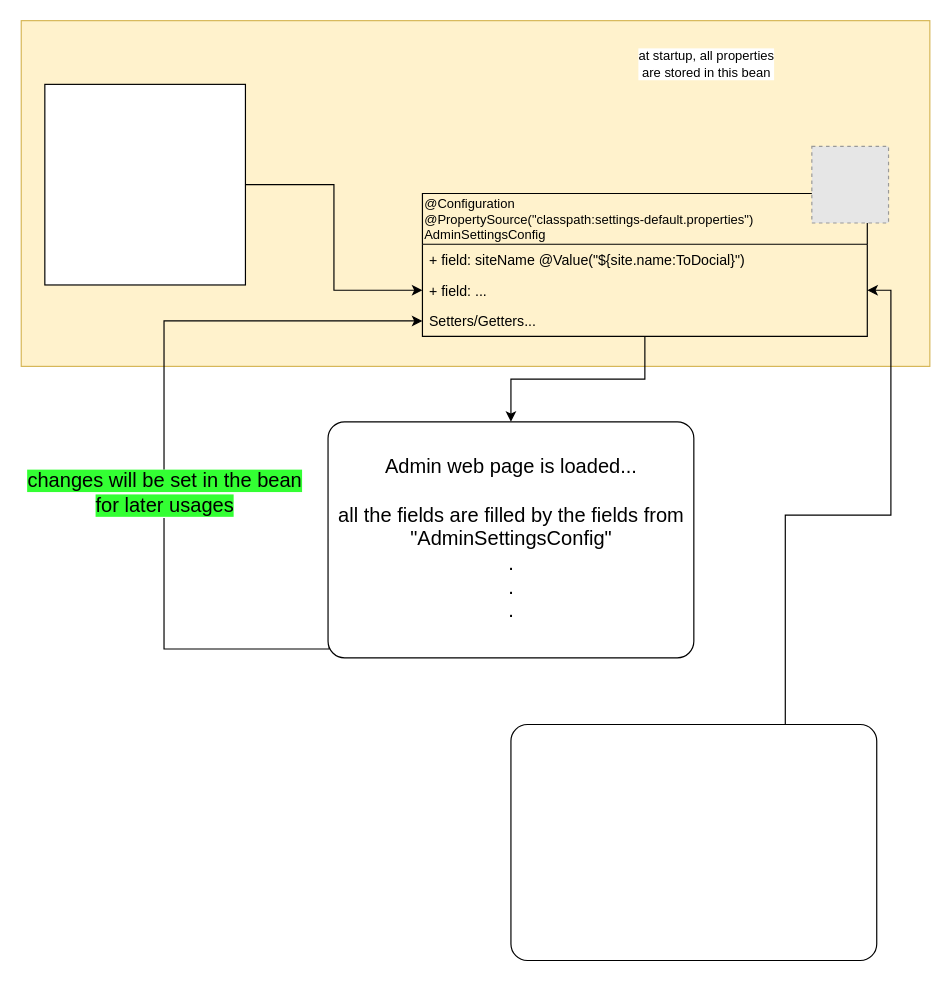
The diagram is 950 pixels wide and 982 high, and some of its shapes have lost their labels. Grey dashed boxes stand in for pictures. Here are the shapes that lost their labels. From the top down, the box of each, then its label:
(44, 83, 245, 285): settings-default.properties site.name:ToDocial ... ...
(510, 723, 877, 961): User web page: @Autowire the bean in JSP: ${settings.siteName}
